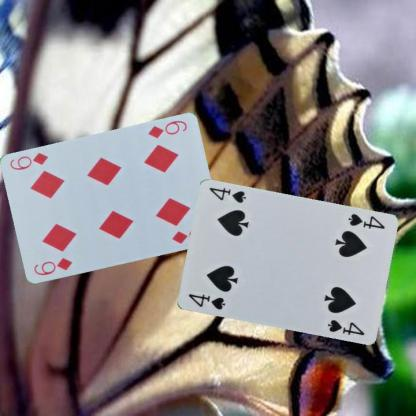4s: (185, 292, 226, 312), (345, 211, 385, 230)
6d: (30, 255, 74, 277), (145, 118, 188, 140)
